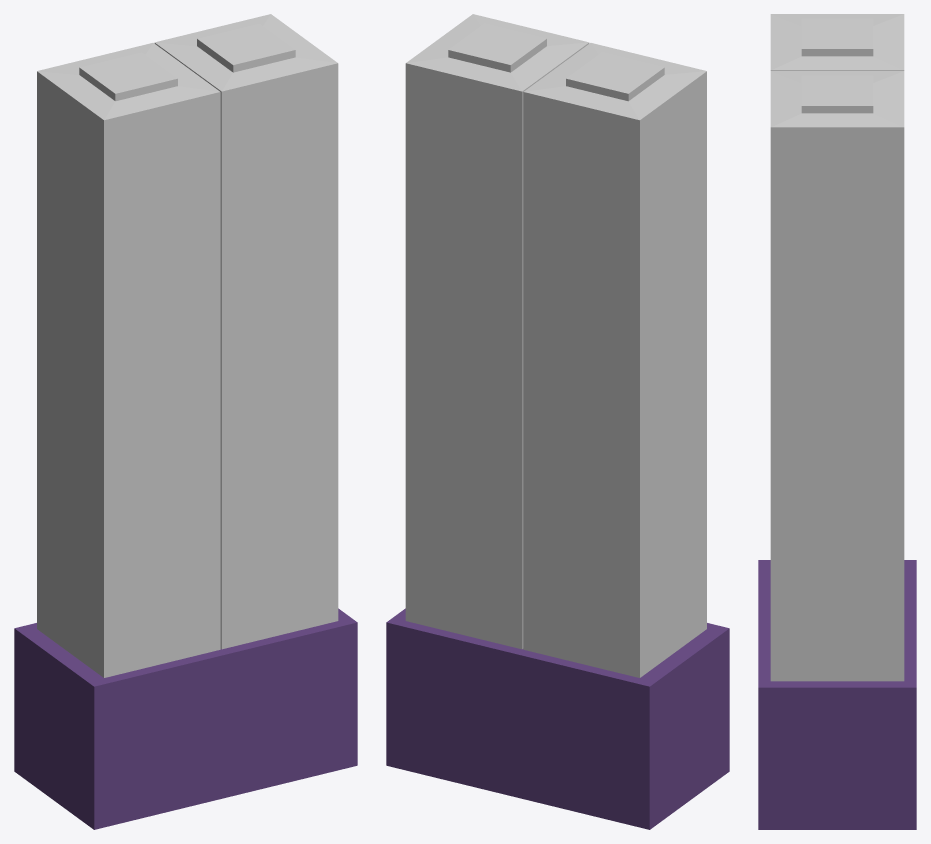
Rendered from Double Skyscraper.fbx.
3 views of the same model, side by side, from view 1: azimuth 30°, elevation 25°; view 2: azimuth 150°, elevation 25°; view 3: azimuth 270°, elevation 25° (orthographic).
Visible parts, largest first — view 1: Cube.008; view 2: Cube.008; view 3: Cube.008.
Part boxes in pixels (x1=…): Cube.008: x1=14, y1=14, x2=357, y2=829; Cube.008: x1=386, y1=14, x2=729, y2=829; Cube.008: x1=758, y1=14, x2=916, y2=829.
Size of the model in its own units: 4352 by 11200 by 2283.
